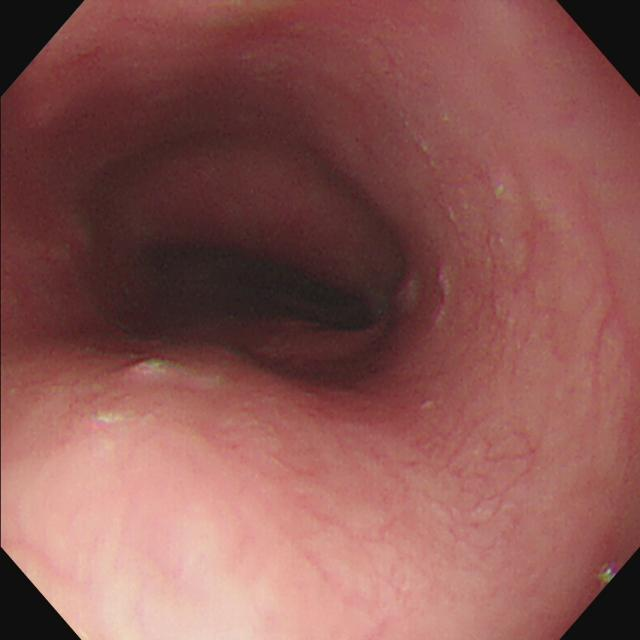E: (186, 231, 374, 346)
U: (594, 564, 620, 585)
